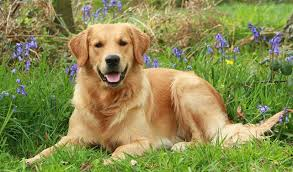Bulldog: (28, 5, 289, 172)
